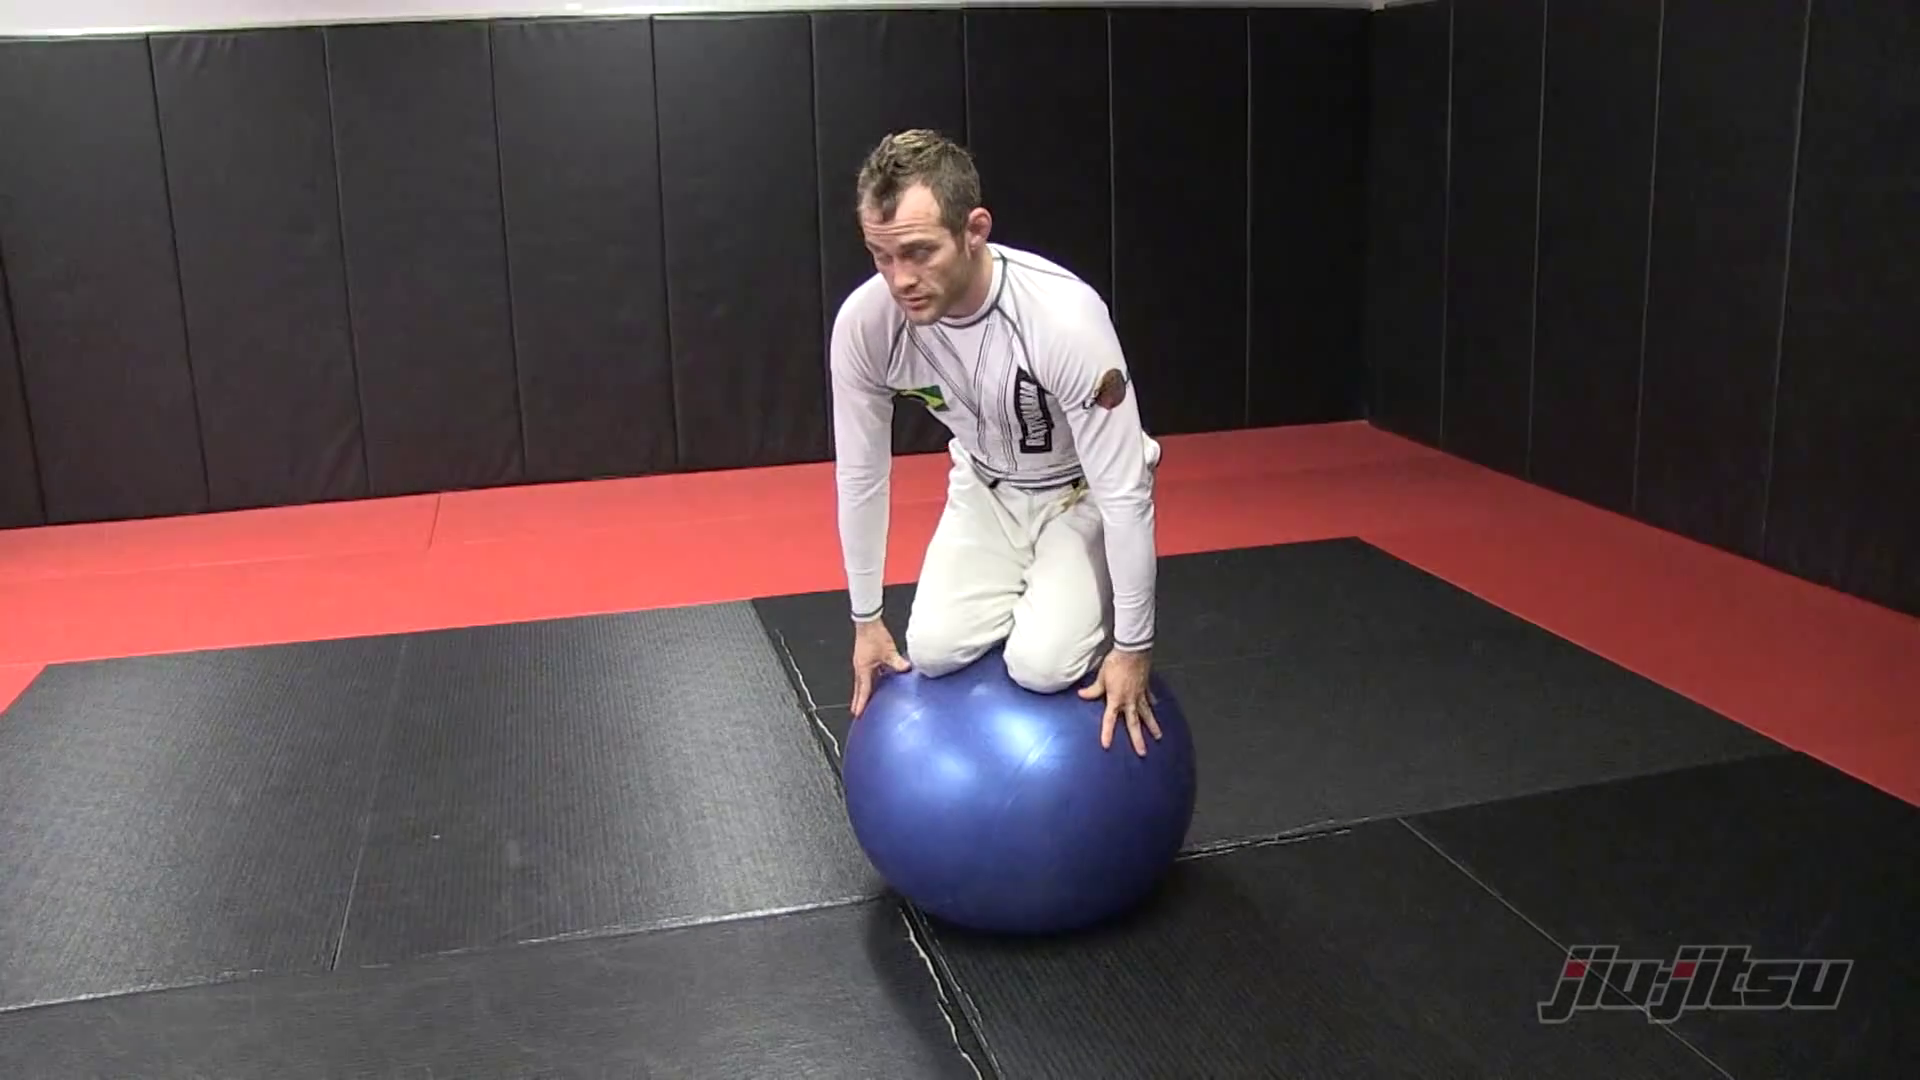yogaball: (816, 641, 1216, 951)
